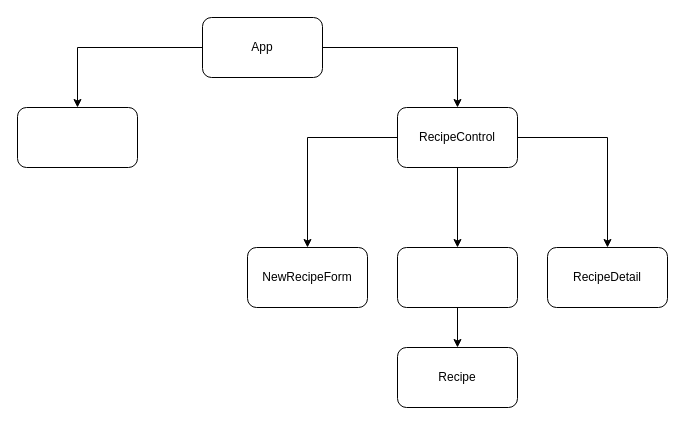
Image size: 685x425. Some labels were removed from this diagram. Each missing label, with the box of its shape:
NavBar: (16, 106, 138, 168)
RecipeList: (396, 246, 518, 308)
